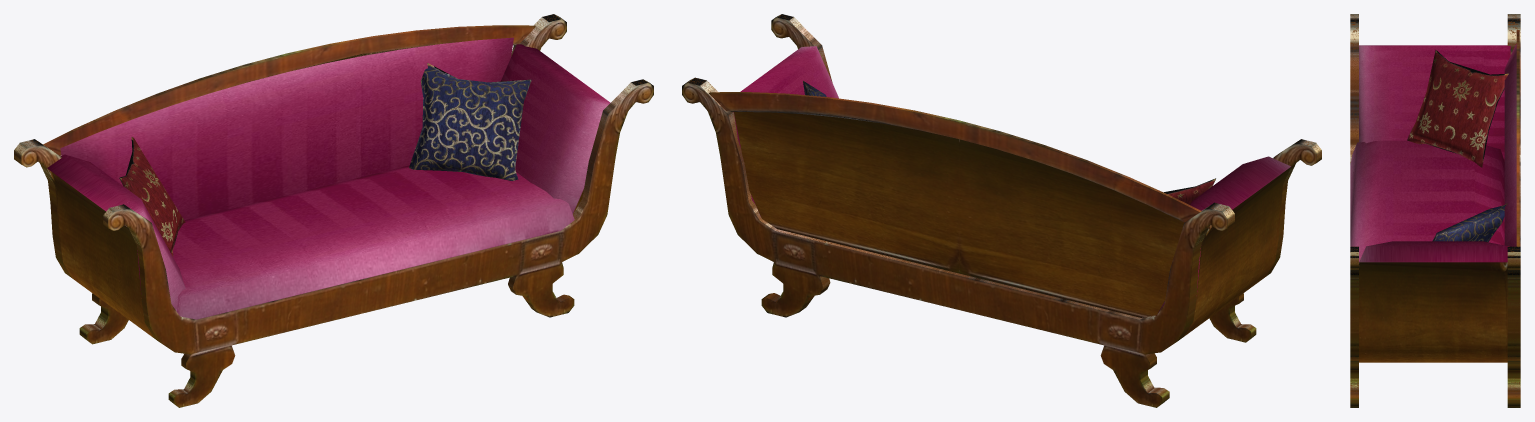
File: sofa.dae
3 views of the same model, side by side, from view 1: azimuth 30°, elevation 25°; view 2: azimuth 150°, elevation 25°; view 3: azimuth 270°, elevation 25° (orthographic). The views are drawn at different scales.
Visible parts, largest first — view 1: Group4, Group2, Group9, Group13, Group14, Group5, Group12, Group8, Group10, Group6; view 2: Group7, Group8, Group5, Group12, Group9, Group13, Group10; view 3: Group11, Group2, Group10, Group6, Group8, Group13, Group9, Group4, Group14, Group5.
Boxes of the visible parts, left/top/right/bottom form: Group4: left=60, top=37, right=513, bottom=220; Group2: left=137, top=165, right=574, bottom=319; Group9: left=103, top=79, right=653, bottom=407; Group13: left=500, top=44, right=610, bottom=214; Group14: left=409, top=63, right=531, bottom=180; Group5: left=43, top=25, right=535, bottom=155; Group12: left=47, top=168, right=153, bottom=337; Group8: left=14, top=14, right=566, bottom=344; Group10: left=47, top=154, right=185, bottom=311; Group6: left=119, top=137, right=185, bottom=256; Group7: left=734, top=112, right=1183, bottom=317; Group8: left=682, top=77, right=1234, bottom=407; Group5: left=709, top=92, right=1211, bottom=228; Group12: left=1185, top=167, right=1290, bottom=335; Group9: left=771, top=14, right=1321, bottom=342; Group13: left=733, top=46, right=838, bottom=217; Group10: left=1155, top=156, right=1290, bottom=315; Group11: left=1359, top=262, right=1507, bottom=362; Group2: left=1350, top=140, right=1504, bottom=261; Group10: left=1359, top=45, right=1510, bottom=161; Group6: left=1407, top=50, right=1508, bottom=167; Group8: left=1507, top=14, right=1520, bottom=407; Group13: left=1359, top=241, right=1509, bottom=262; Group9: left=1350, top=14, right=1358, bottom=407; Group4: left=1504, top=43, right=1516, bottom=246; Group14: left=1432, top=203, right=1507, bottom=242; Group5: left=1516, top=30, right=1519, bottom=246.
Bounding box in the file's own units: 15.16 × 4.52 × 6.3.
7 materials, 6 textured.
